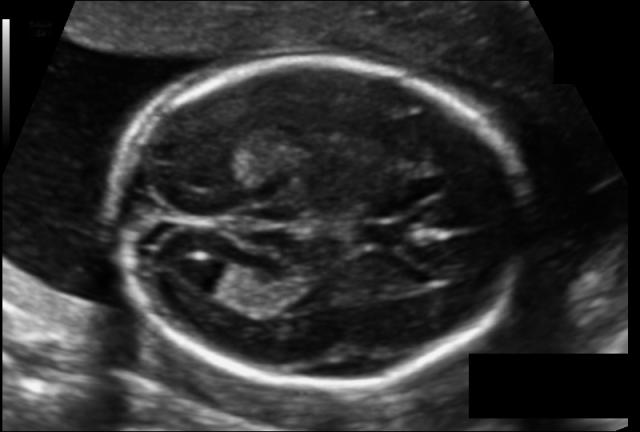CHOROID_PLEXUS: (208, 266, 318, 320)
CSP: (391, 190, 500, 260)
MIDLINE_FALX: (105, 178, 535, 262)
